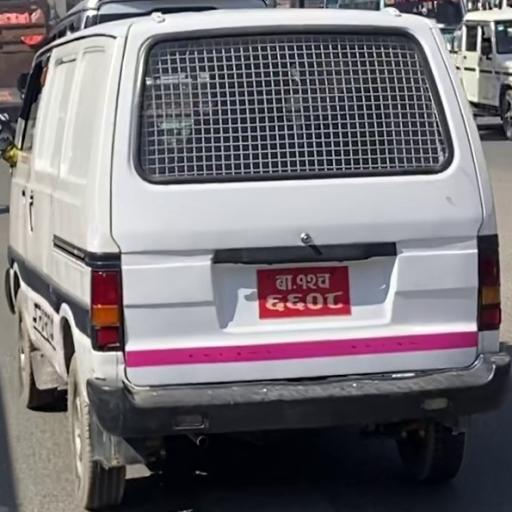license_plate: (255, 259, 354, 326)
